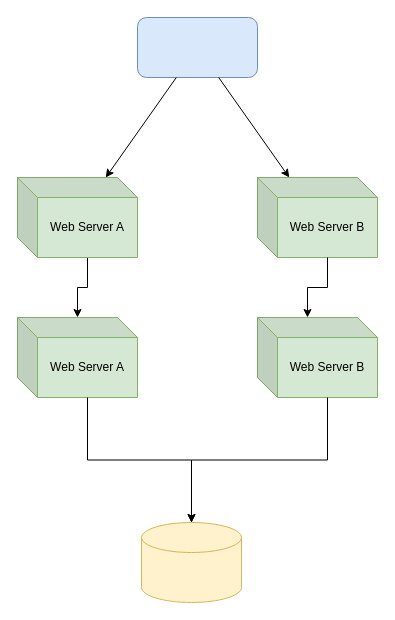
Some shapes in this 395 by 620 pixel diagram are drawn without their labels. The centre of each missing label's shape, as x and y in pixels:
"Load Balancer" belongs at point 197,47.
"Primary DB" belongs at point 191,562.
